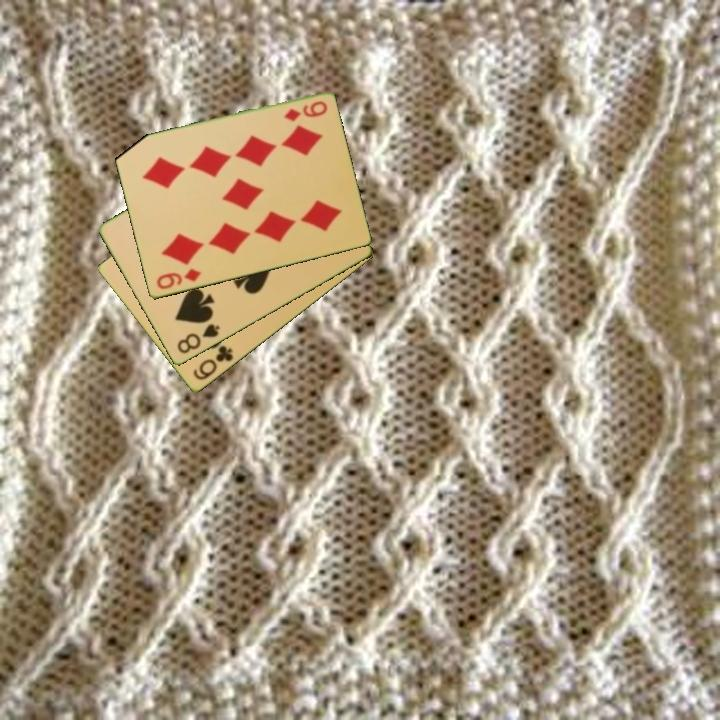6c: (189, 342, 236, 384)
8s: (173, 320, 223, 357)
9d: (153, 265, 204, 292), (280, 98, 330, 125)
